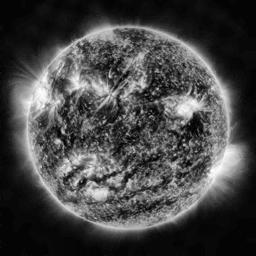solar flares: (165, 96, 198, 121), (93, 84, 118, 106), (87, 183, 109, 202), (36, 86, 49, 109), (68, 78, 84, 93)
sunspots: (98, 57, 128, 83), (110, 203, 179, 211), (136, 87, 160, 102), (124, 29, 144, 45), (188, 119, 203, 139), (102, 112, 122, 126), (56, 129, 73, 145), (196, 83, 208, 92)
